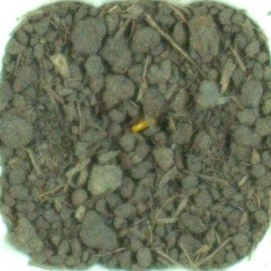chilli seed: (127, 109, 158, 137)
